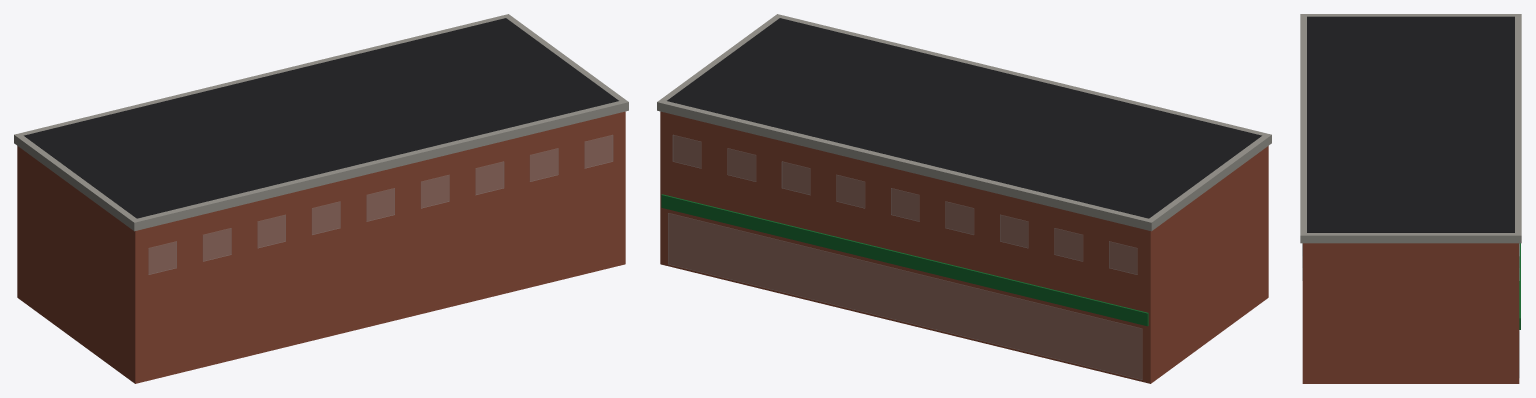
File: context.shop_parade.glb
3 views of the same model, side by side, from view 1: azimuth 30°, elevation 25°; view 2: azimuth 150°, elevation 25°; view 3: azimuth 270°, elevation 25° (orthographic). The views are drawn at different scales.
Parts seen in each view (by area): view 1: walls__brick, roof__roof_felt, roof__concrete, openings__glass; view 2: walls__brick, roof__roof_felt, openings__glass, roof__concrete, openings__plastic_green; view 3: roof__roof_felt, walls__brick, roof__concrete.
Boxes of the visible parts, x1,y1,x2,y2 form: walls__brick: (17, 111, 625, 383); roof__roof_felt: (24, 18, 618, 218); roof__concrete: (14, 14, 628, 231); openings__glass: (148, 135, 612, 274); walls__brick: (660, 111, 1268, 383); roof__roof_felt: (667, 18, 1261, 218); openings__glass: (668, 135, 1142, 379); roof__concrete: (657, 14, 1271, 231); openings__plastic_green: (661, 194, 1148, 326); roof__roof_felt: (1307, 16, 1514, 232); walls__brick: (1302, 243, 1519, 383); roof__concrete: (1300, 14, 1521, 243).
Size of the model in its own units: 24.2 by 7.61 by 10.2.
